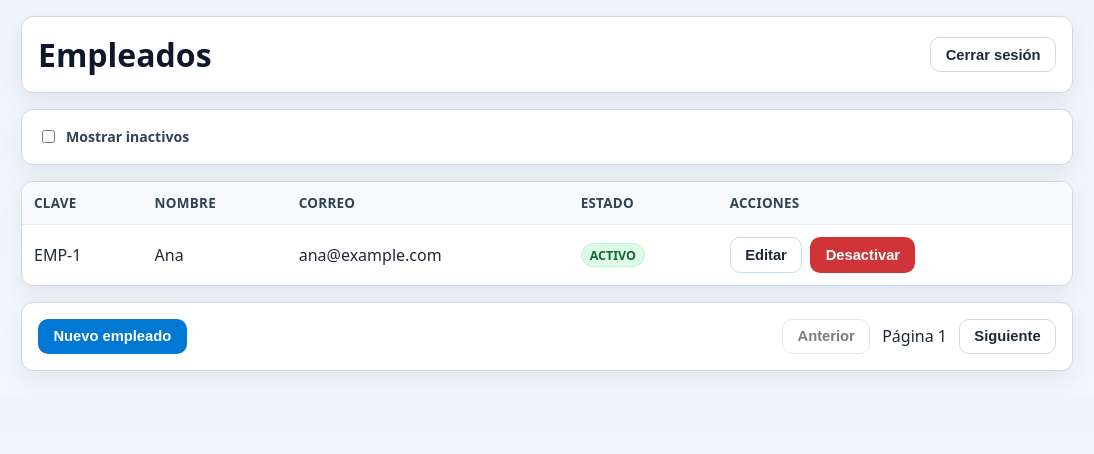
it: Empleados toggle inactivos › permite mostrar inactivos
Expected: the text "EMP-2" is not shown
Click the text "Mostrar inactivos". click: [114, 137]
box: [38,127,189,146]
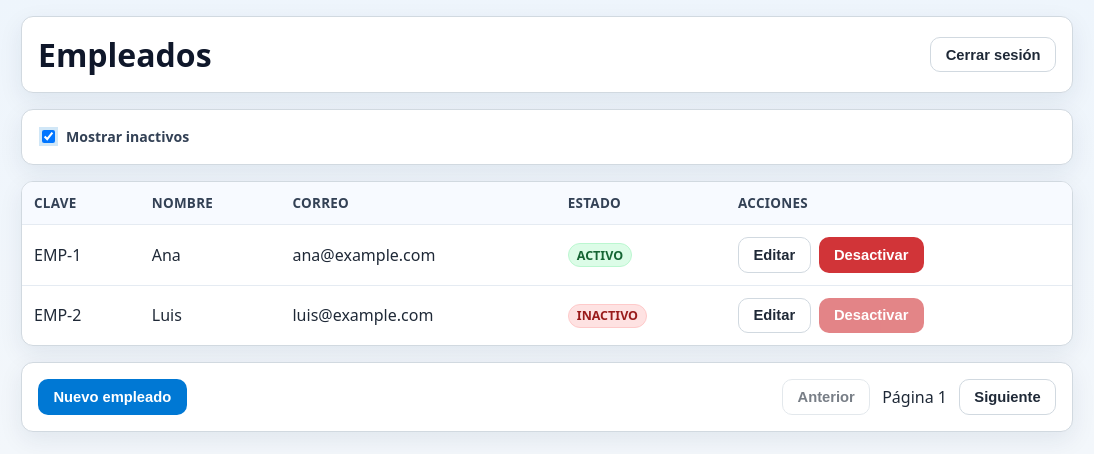
Expected: the text "EMP-2" is shown, [22,286,140,345]
